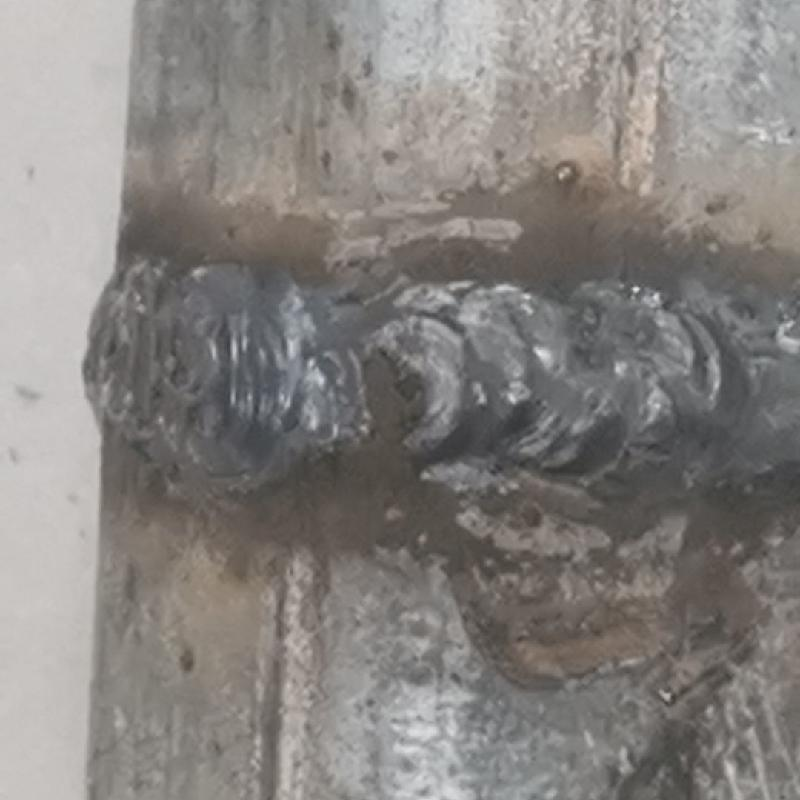good: (70, 240, 799, 496)
